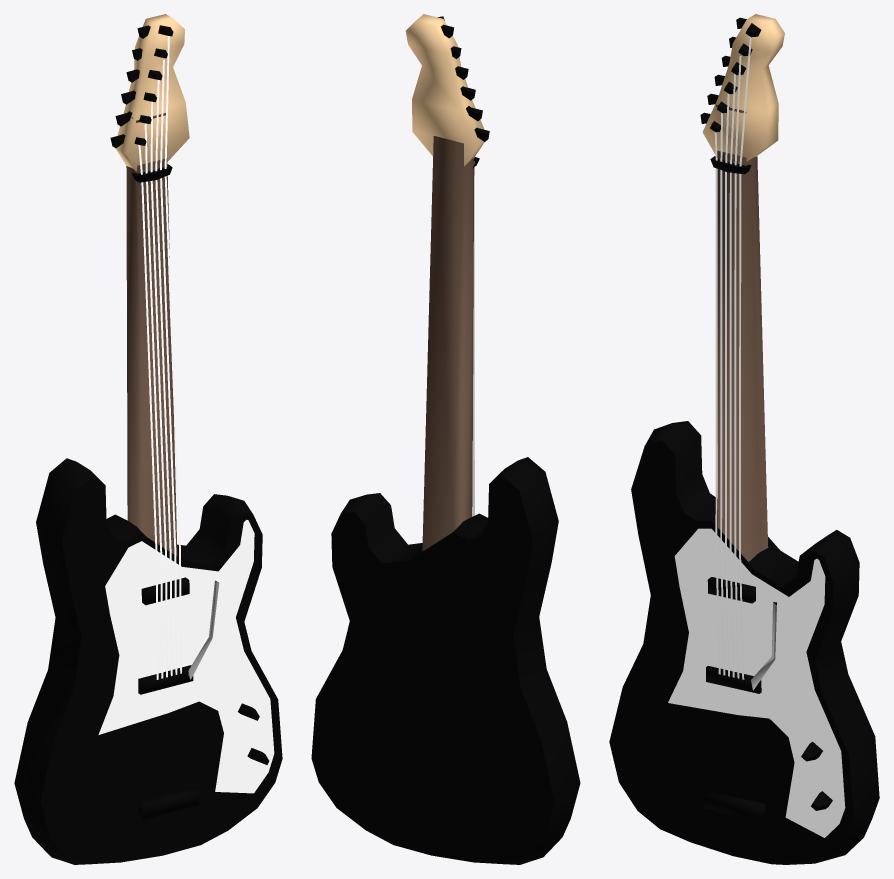
File: GuitarElectricBlack.glb
The picture shows the model from 3 angles, left to right: view 1: azimuth 30°, elevation 25°; view 2: azimuth 150°, elevation 25°; view 3: azimuth 330°, elevation 25°; orthographic projection.
Parts seen in each view (by area): view 1: GuitarElectricBlack; view 2: GuitarElectricBlack; view 3: GuitarElectricBlack.
Boxes of the visible parts, x1=… form: GuitarElectricBlack: x1=14, y1=14, x2=282, y2=864; GuitarElectricBlack: x1=311, y1=14, x2=580, y2=864; GuitarElectricBlack: x1=609, y1=14, x2=879, y2=864.
Bounding box in the file's own units: 0.4159 × 1.31 × 0.1052.
1 material, 1 textured.
